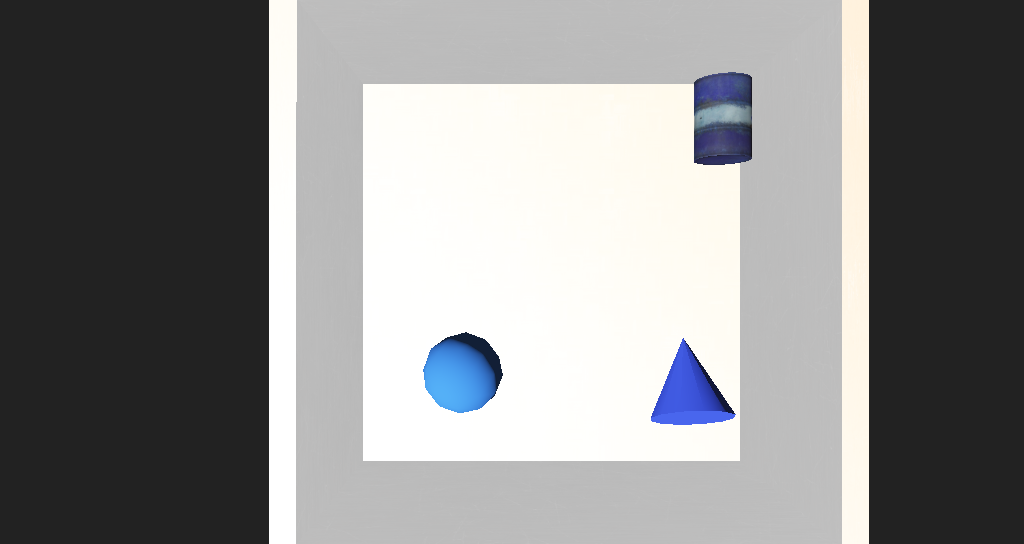cone: (613, 157, 667, 205)
cylinder: (579, 296, 647, 363)
sphere: (408, 303, 468, 346)
